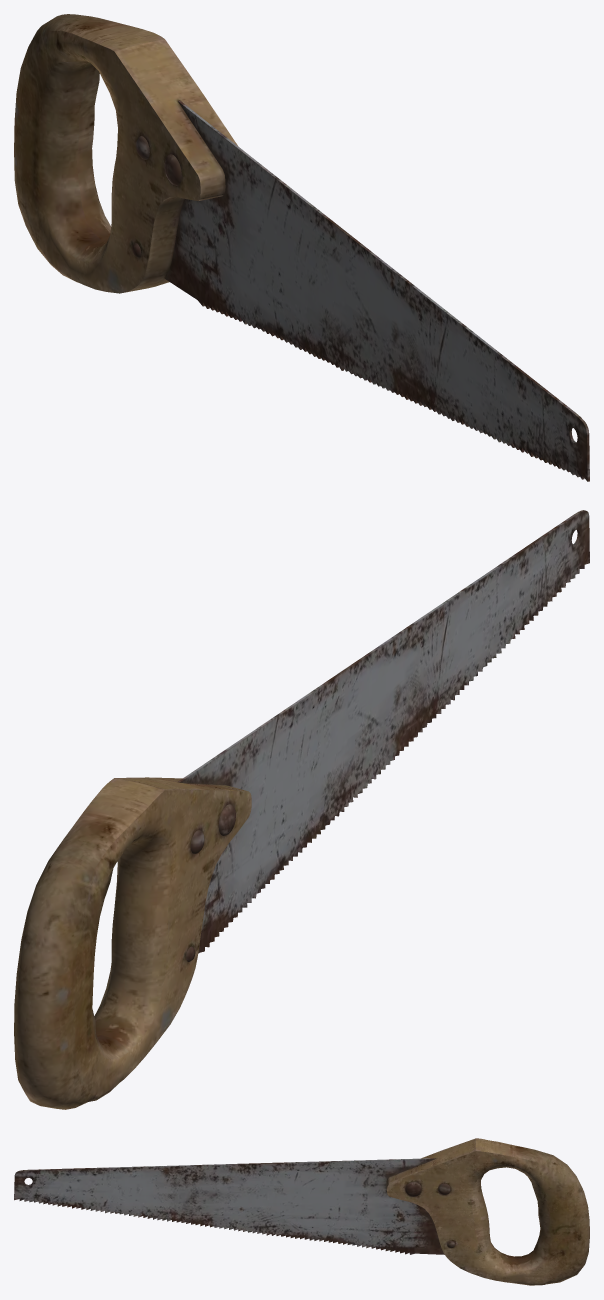
Rendered from handsaw_wood.glb.
The picture shows the model from 3 angles, top to bottom: view 1: azimuth 30°, elevation 25°; view 2: azimuth 150°, elevation 25°; view 3: azimuth 270°, elevation 25°; orthographic projection. The views are drawn at different scales.
Visible parts, largest first — view 1: handsaw_wood; view 2: handsaw_wood; view 3: handsaw_wood.
Part boxes in pixels (<box>): handsaw_wood: <box>14,14,589,481</box>; handsaw_wood: <box>14,510,589,1109</box>; handsaw_wood: <box>14,1138,589,1285</box>.
Size of the model in its own units: 0.0408 by 0.1665 by 0.633.
Materials: 1 (1 with a texture image).
